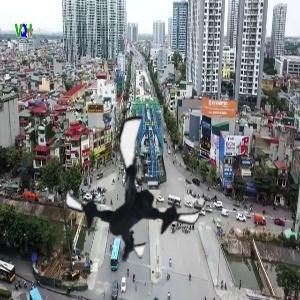drone: (62, 116, 213, 267)
